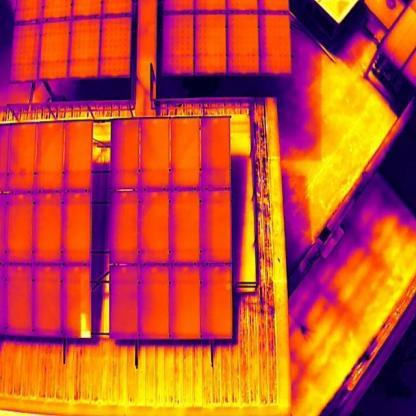anomaly: (77, 312, 95, 341)
